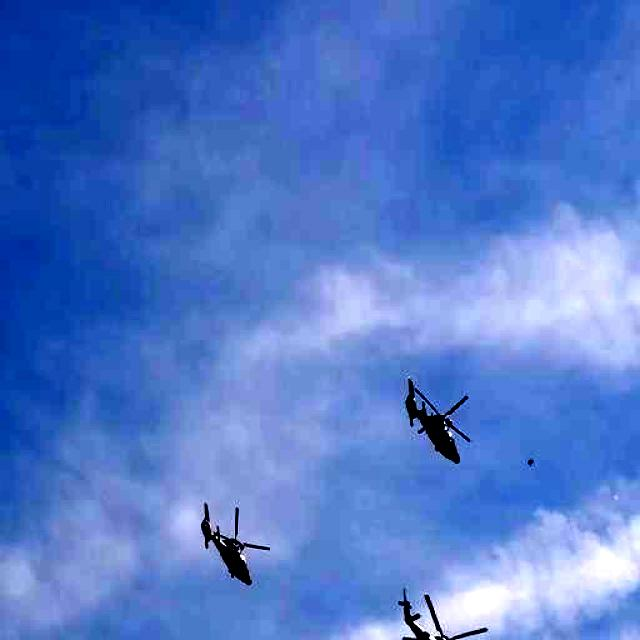drone: (404, 365, 479, 470), (199, 510, 270, 596), (399, 581, 481, 640)
